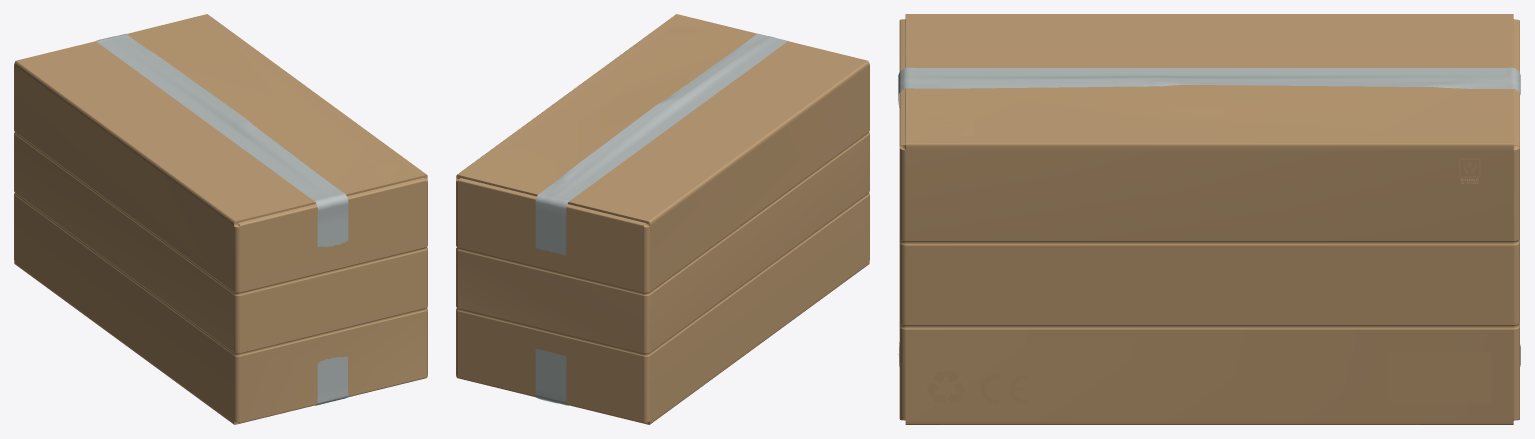
Rendered from box_multiDepth_a04.glb.
3 renders of one model, left to right at view 1: azimuth 30°, elevation 25°; view 2: azimuth 150°, elevation 25°; view 3: azimuth 270°, elevation 25°, orthographic. The views are drawn at different scales.
Size of the model in its own units: 0.1522 by 0.1571 by 0.306.
